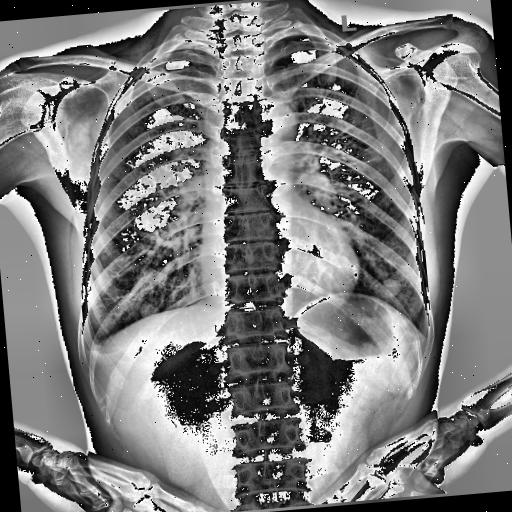10- Pleural effusion: (78, 318, 104, 366), (78, 332, 114, 366), (82, 334, 110, 362)
11- Pleural thickening: (78, 318, 104, 366), (78, 332, 114, 366), (82, 334, 110, 362)
7- Lung Opacity: (374, 278, 401, 300), (141, 304, 160, 322)
8- Nodule-Mass: (376, 280, 400, 298), (141, 304, 156, 322)
9- Other lesion: (350, 263, 360, 282)
